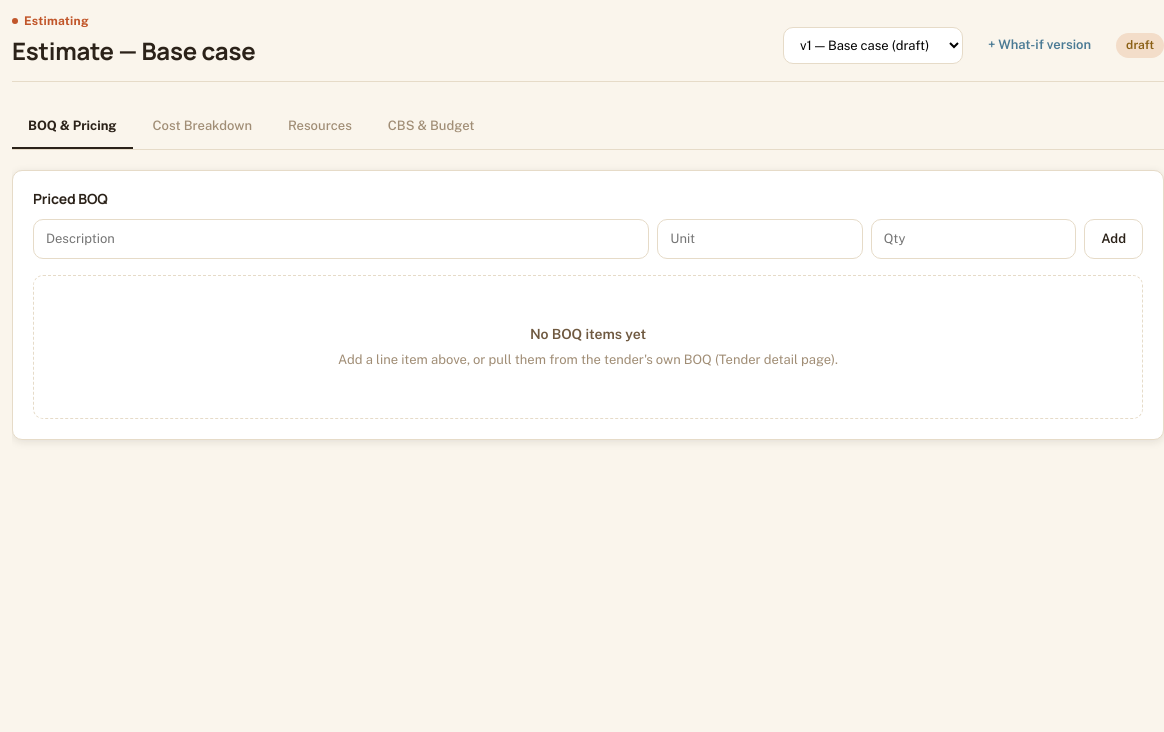
Test case: EstimatePage cost breakdown › shows direct cost and grand total exactly as the backend returns them, never recomputed
Click the button "Cost breakdown". click: (202, 127)
box: x1=136 y1=106 x2=268 y2=148
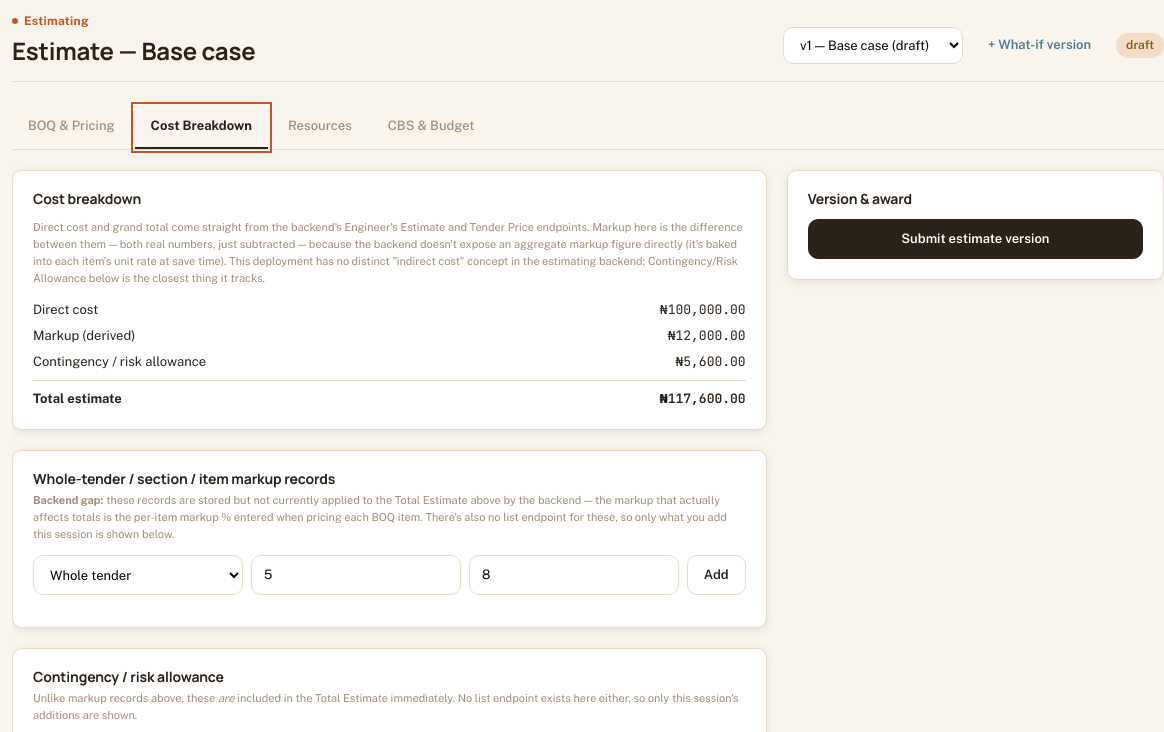
Now the text "₦100,000.00" is shown, box x1=660 y1=300 x2=746 y2=320
Now the text "₦117,600.00" is shown, box x1=660 y1=389 x2=746 y2=409
Now the text "₦5,600.00" is shown, box x1=675 y1=352 x2=746 y2=372
